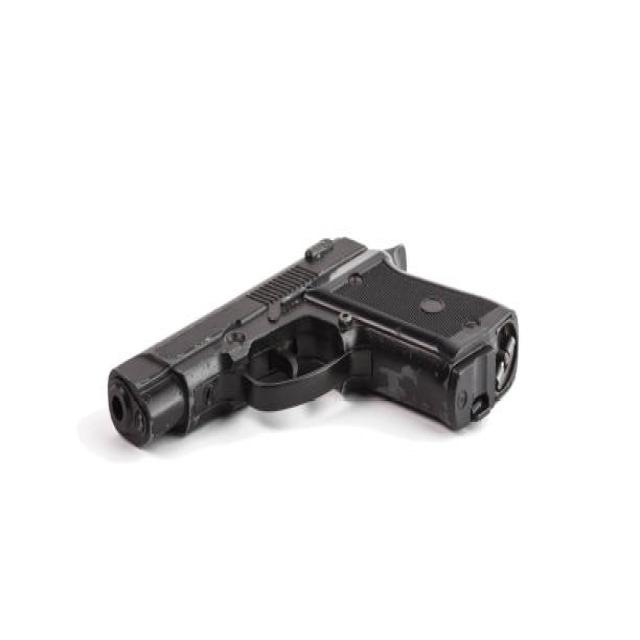pistol: (106, 222, 526, 456)
